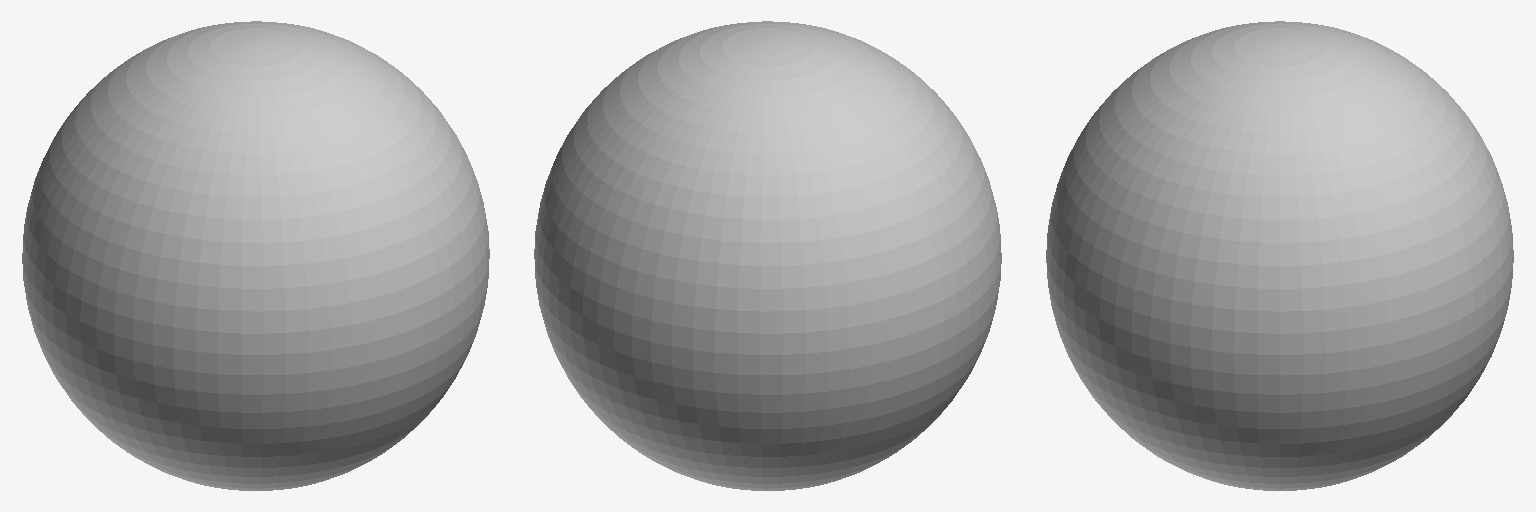
The model's file is earth.obj.
3 renders of one model, left to right at view 1: azimuth 30°, elevation 25°; view 2: azimuth 150°, elevation 25°; view 3: azimuth 270°, elevation 25°, orthographic.
Visible parts, largest first — view 1: Sphere_Material.001; view 2: Sphere_Material.001; view 3: Sphere_Material.001.
Part boxes in pixels (x1,y1,x2,y2): Sphere_Material.001: (22,21,489,490); Sphere_Material.001: (534,21,1001,490); Sphere_Material.001: (1046,21,1513,490).
Bounding box in the file's own units: 1.97 × 1.98 × 1.97.